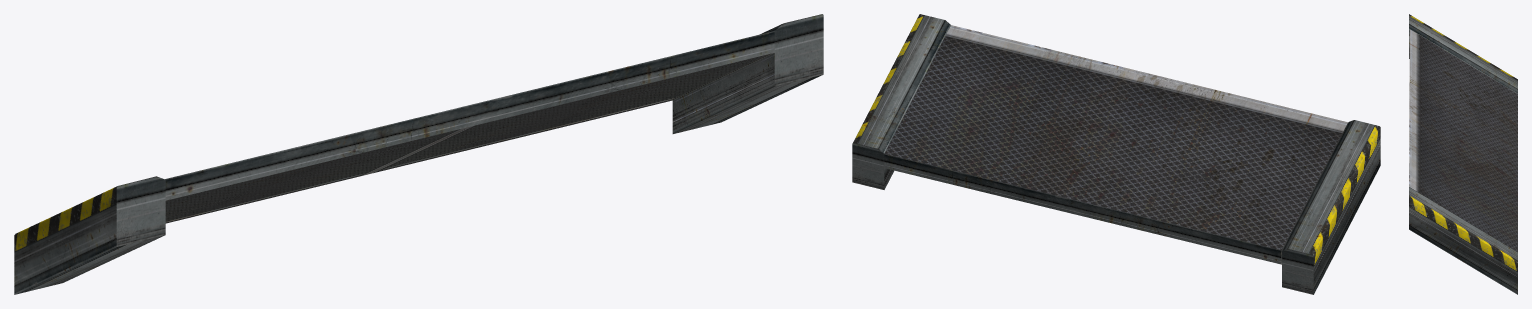
Rendered from Floor_A_3'5qmts_3.fbx.
The picture shows the model from 3 angles, left to right: view 1: azimuth 30°, elevation 25°; view 2: azimuth 150°, elevation 25°; view 3: azimuth 270°, elevation 25°; orthographic projection. The views are drawn at different scales.
Visible parts, largest first — view 1: Floor_A_3'5qmts_3; view 2: Floor_A_3'5qmts_3; view 3: Floor_A_3'5qmts_3.
Part boxes in pixels (x1,y1,x2,y2): Floor_A_3'5qmts_3: (14,14,823,294); Floor_A_3'5qmts_3: (852,14,1380,294); Floor_A_3'5qmts_3: (1409,14,1517,294).
Bounding box in the file's own units: 399 × 99.12 × 100.
